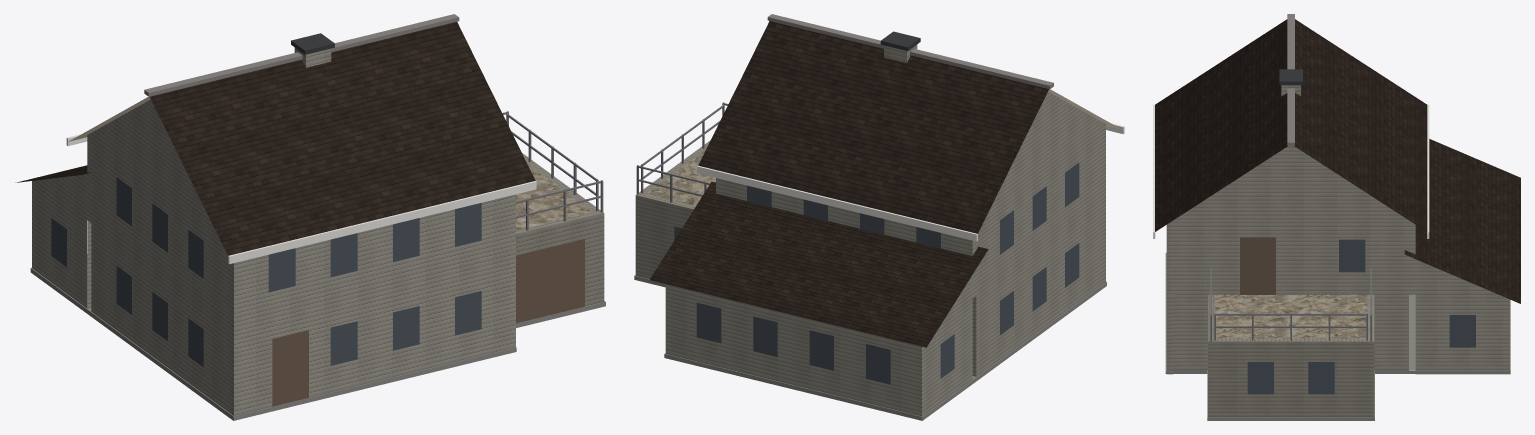
The model's file is ns-saltbox.zfix-v22.lod1.glb.
The picture shows the model from 3 angles, left to right: view 1: azimuth 30°, elevation 25°; view 2: azimuth 150°, elevation 25°; view 3: azimuth 270°, elevation 25°; orthographic projection. The views are drawn at different scales.
Parts seen in each view (by area): view 1: ns-saltbox; view 2: ns-saltbox; view 3: ns-saltbox.
Boxes of the visible parts, left/top/right/bottom form: ns-saltbox: left=15, top=14, right=605, bottom=420; ns-saltbox: left=634, top=14, right=1124, bottom=420; ns-saltbox: left=1153, top=14, right=1520, bottom=420.
Size of the model in its own units: 14.53 by 9.74 by 13.29.
4 materials, 3 textured.
